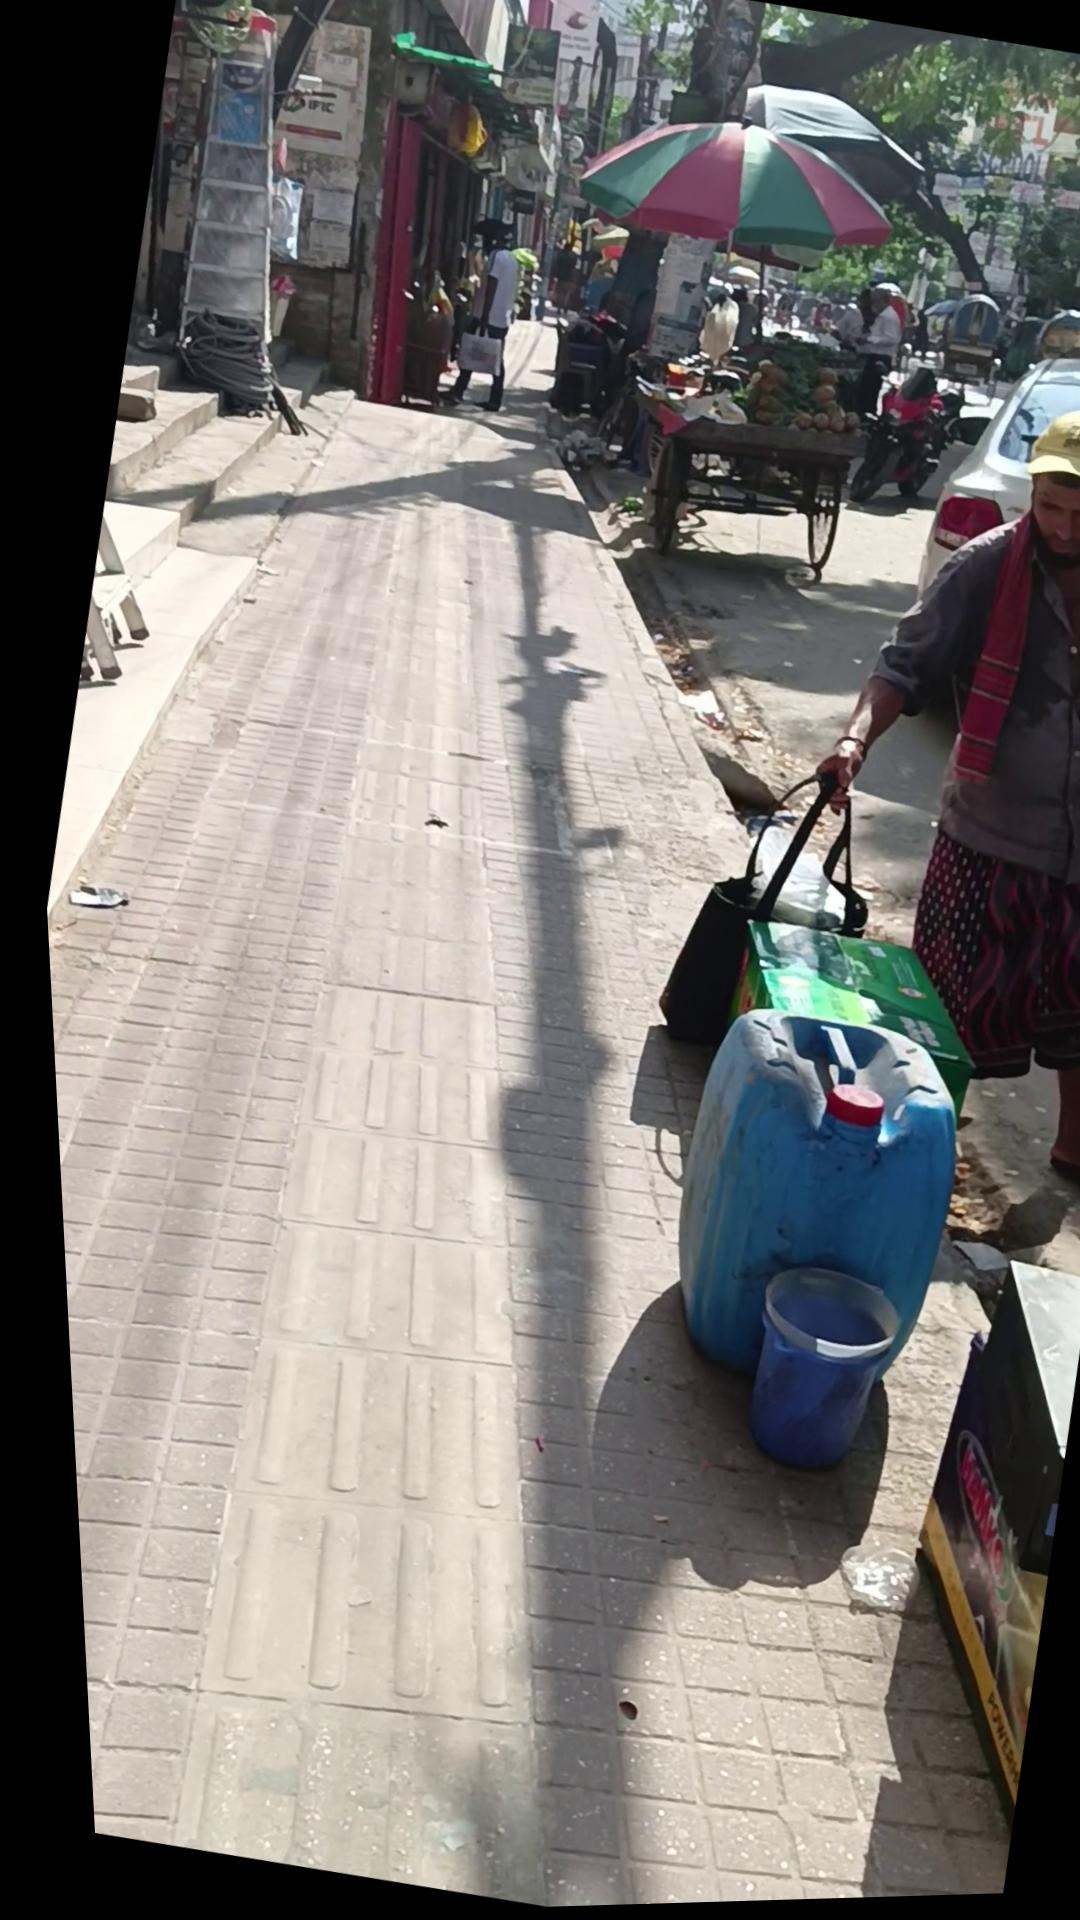Bollard: (885, 329, 1080, 706)
Broken-road: (14, 339, 375, 966), (465, 396, 830, 840), (95, 369, 223, 513)
Cat: (713, 1258, 900, 1489)
Curb: (718, 373, 1080, 1209)
Fence: (598, 373, 876, 599)
Obstacle: (107, 0, 594, 437)
